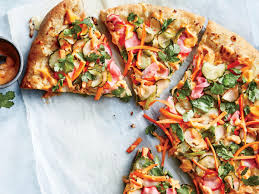pizza: (22, 1, 131, 94), (102, 9, 206, 104)
